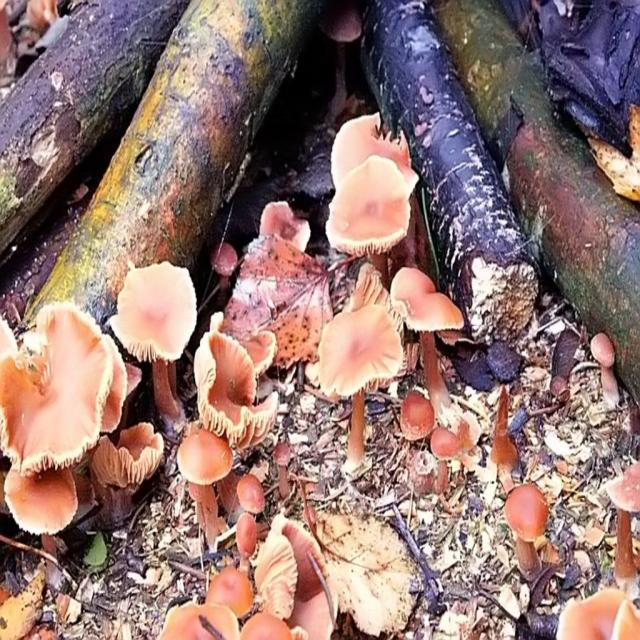Mushroom: (0, 111, 480, 638), (309, 276, 411, 484), (553, 583, 639, 639), (502, 478, 550, 578), (603, 462, 639, 592), (326, 6, 362, 82), (590, 331, 622, 405), (491, 427, 519, 485)
